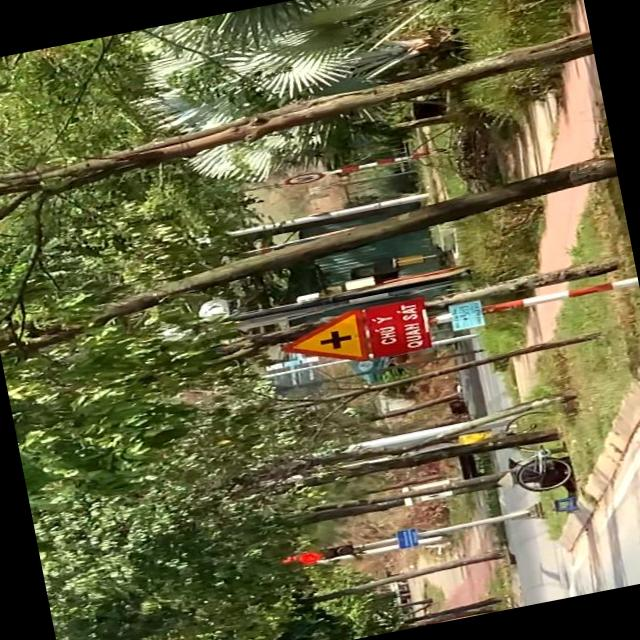W-205a: (276, 308, 372, 375)
